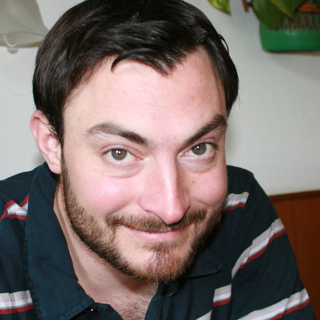eye: (96, 142, 145, 169), (176, 136, 221, 163)
